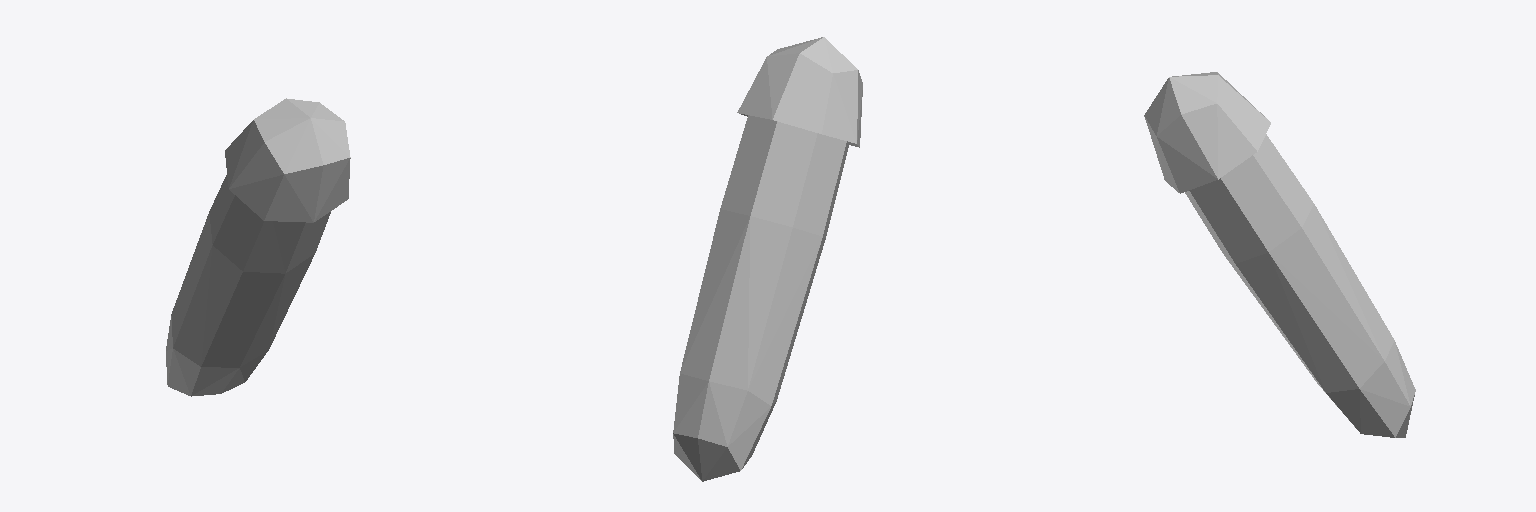
Rendered from gator_right_arm.obj.
3 renders of one model, left to right at view 1: azimuth 30°, elevation 25°; view 2: azimuth 150°, elevation 25°; view 3: azimuth 270°, elevation 25°, orthographic.
Parts seen in each view (by area): view 1: gator_right_arm; view 2: gator_right_arm; view 3: gator_right_arm.
Boxes of the visible parts, x1=… form: gator_right_arm: x1=166, y1=98, x2=350, y2=396; gator_right_arm: x1=673, y1=37, x2=862, y2=481; gator_right_arm: x1=1144, y1=72, x2=1415, y2=437.
Bounding box in the file's own units: 0.1211 × 0.3591 × 0.2451.